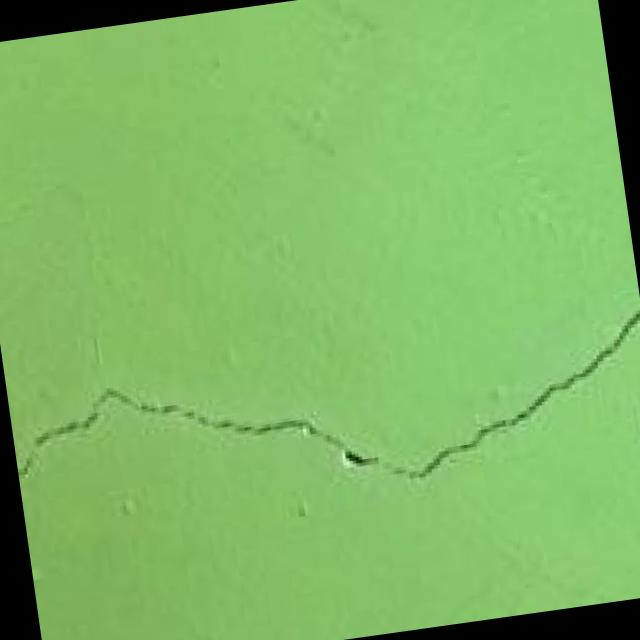crack: (0, 212, 640, 564)
